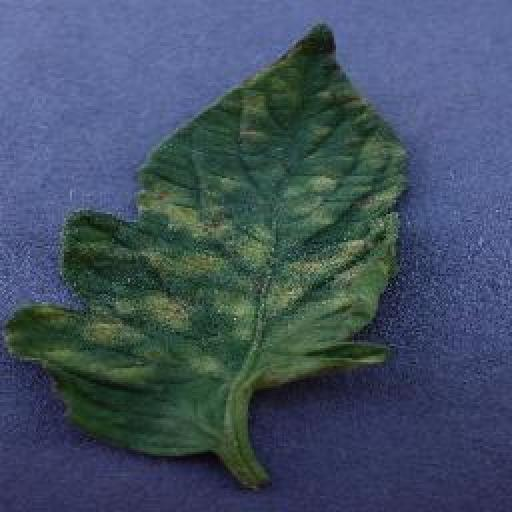disease_tomato: (7, 20, 412, 456)
